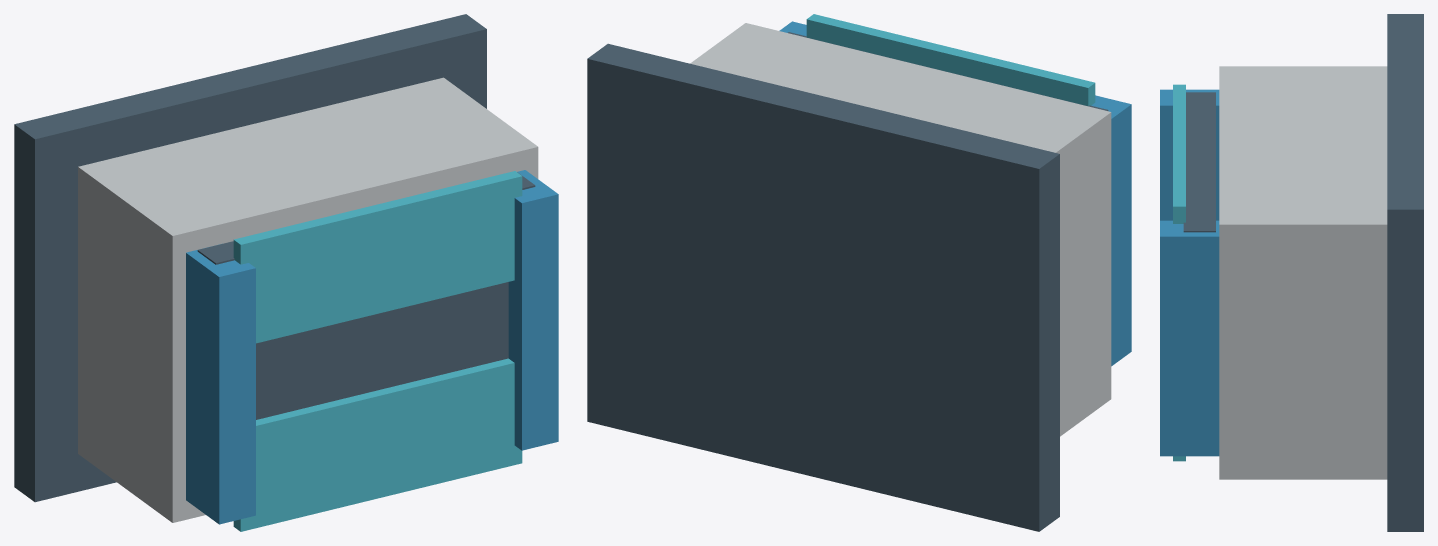
Rendered from b_power.glb.
3 views of the same model, side by side, from view 1: azimuth 30°, elevation 25°; view 2: azimuth 150°, elevation 25°; view 3: azimuth 270°, elevation 25° (orthographic). The views are drawn at different scales.
Visible parts, largest first — view 1: main_structure, foundation, solar_0.8400000000000001, solar_-0.8400000000000001, roof, support_-1.44, support_1.44; view 2: foundation, main_structure, solar_0.8400000000000001, support_-1.44; view 3: main_structure, foundation, support_1.44, roof, support_-1.44, solar_0.8400000000000001.
Part boxes in pixels (x1,y1,x2,y2): main_structure: (78, 77, 538, 522); foundation: (14, 14, 486, 502); solar_0.8400000000000001: (233, 171, 522, 343); solar_-0.8400000000000001: (233, 358, 522, 531); roof: (197, 172, 535, 419); support_-1.44: (186, 243, 255, 524); support_1.44: (508, 170, 558, 450); foundation: (587, 43, 1059, 531); main_structure: (690, 23, 1111, 436); solar_0.8400000000000001: (806, 14, 1095, 105); support_-1.44: (1091, 95, 1131, 366); main_structure: (1219, 66, 1387, 479); foundation: (1387, 14, 1423, 531); support_1.44: (1160, 220, 1219, 456); roof: (1183, 92, 1215, 232); support_-1.44: (1160, 89, 1219, 220); solar_0.8400000000000001: (1173, 84, 1185, 223).
Size of the model in its own units: 4.3 by 3.3 by 2.45.
